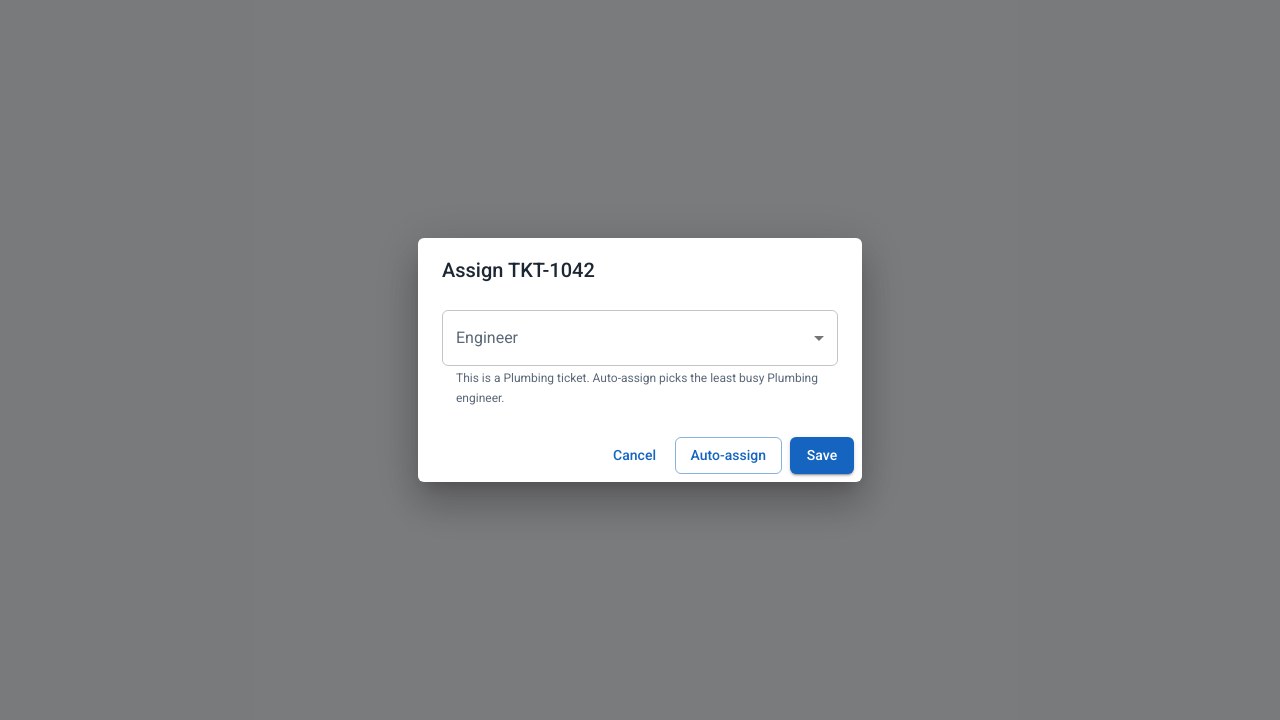
Test: AssignDialog › Auto-assign explains when nobody is free, and the popup stays open
The width and height of the screenshot is (1280, 720).
Step 1. Click the button "Auto-assign" → (728,455), box [674,437,782,474]
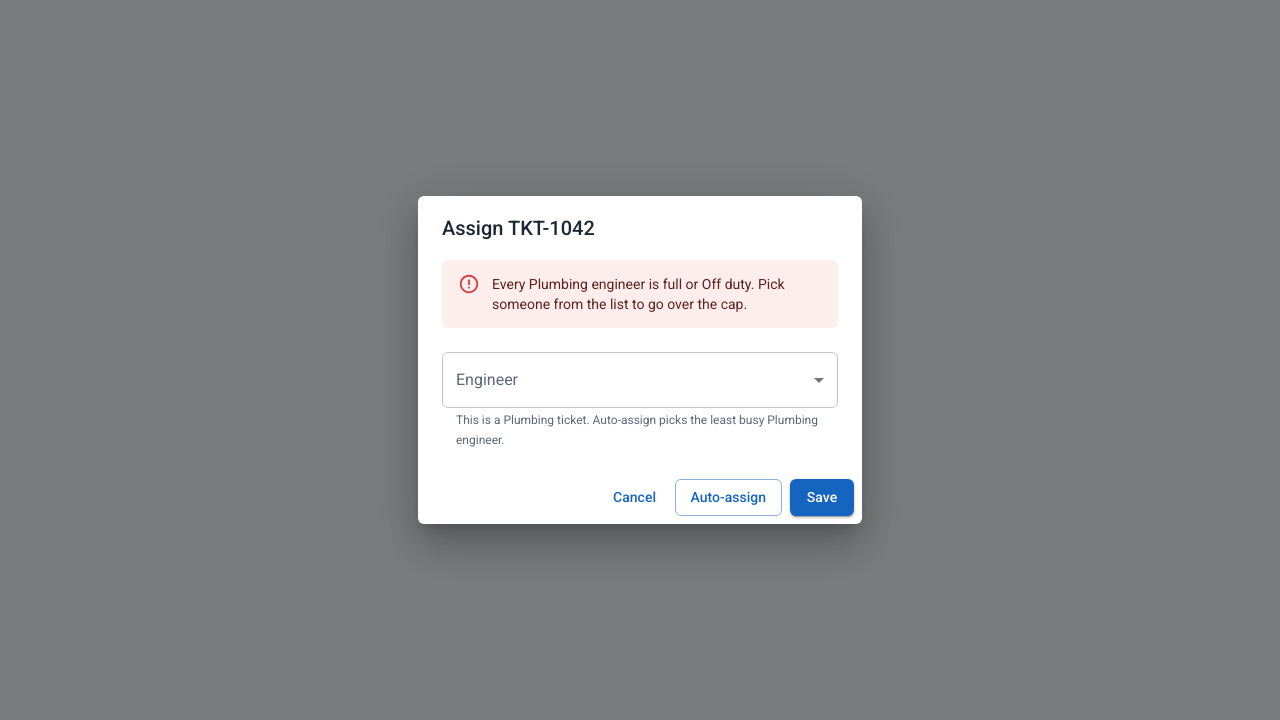
Expected: the button "Save" is enabled, [790,479,854,516]
Expected: the text "Every Plumbing engineer is full or Off duty" is shown, [492,276,785,312]
